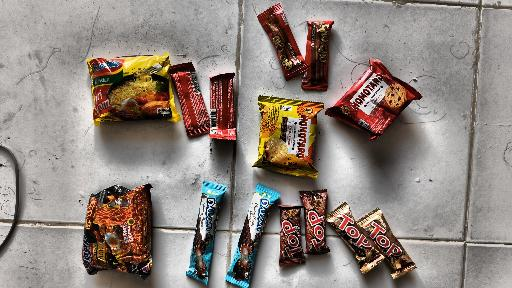chocho: (253, 2, 309, 79), (165, 62, 213, 137), (300, 13, 334, 92), (205, 74, 238, 143)
dilan: (230, 179, 278, 288), (183, 178, 225, 283)
indomie: (79, 55, 181, 123)
mie sedap: (81, 182, 155, 280)
momotaro: (331, 54, 424, 144), (247, 92, 324, 178)
top: (353, 203, 419, 280), (326, 202, 385, 276), (296, 189, 332, 254), (276, 201, 305, 267)
